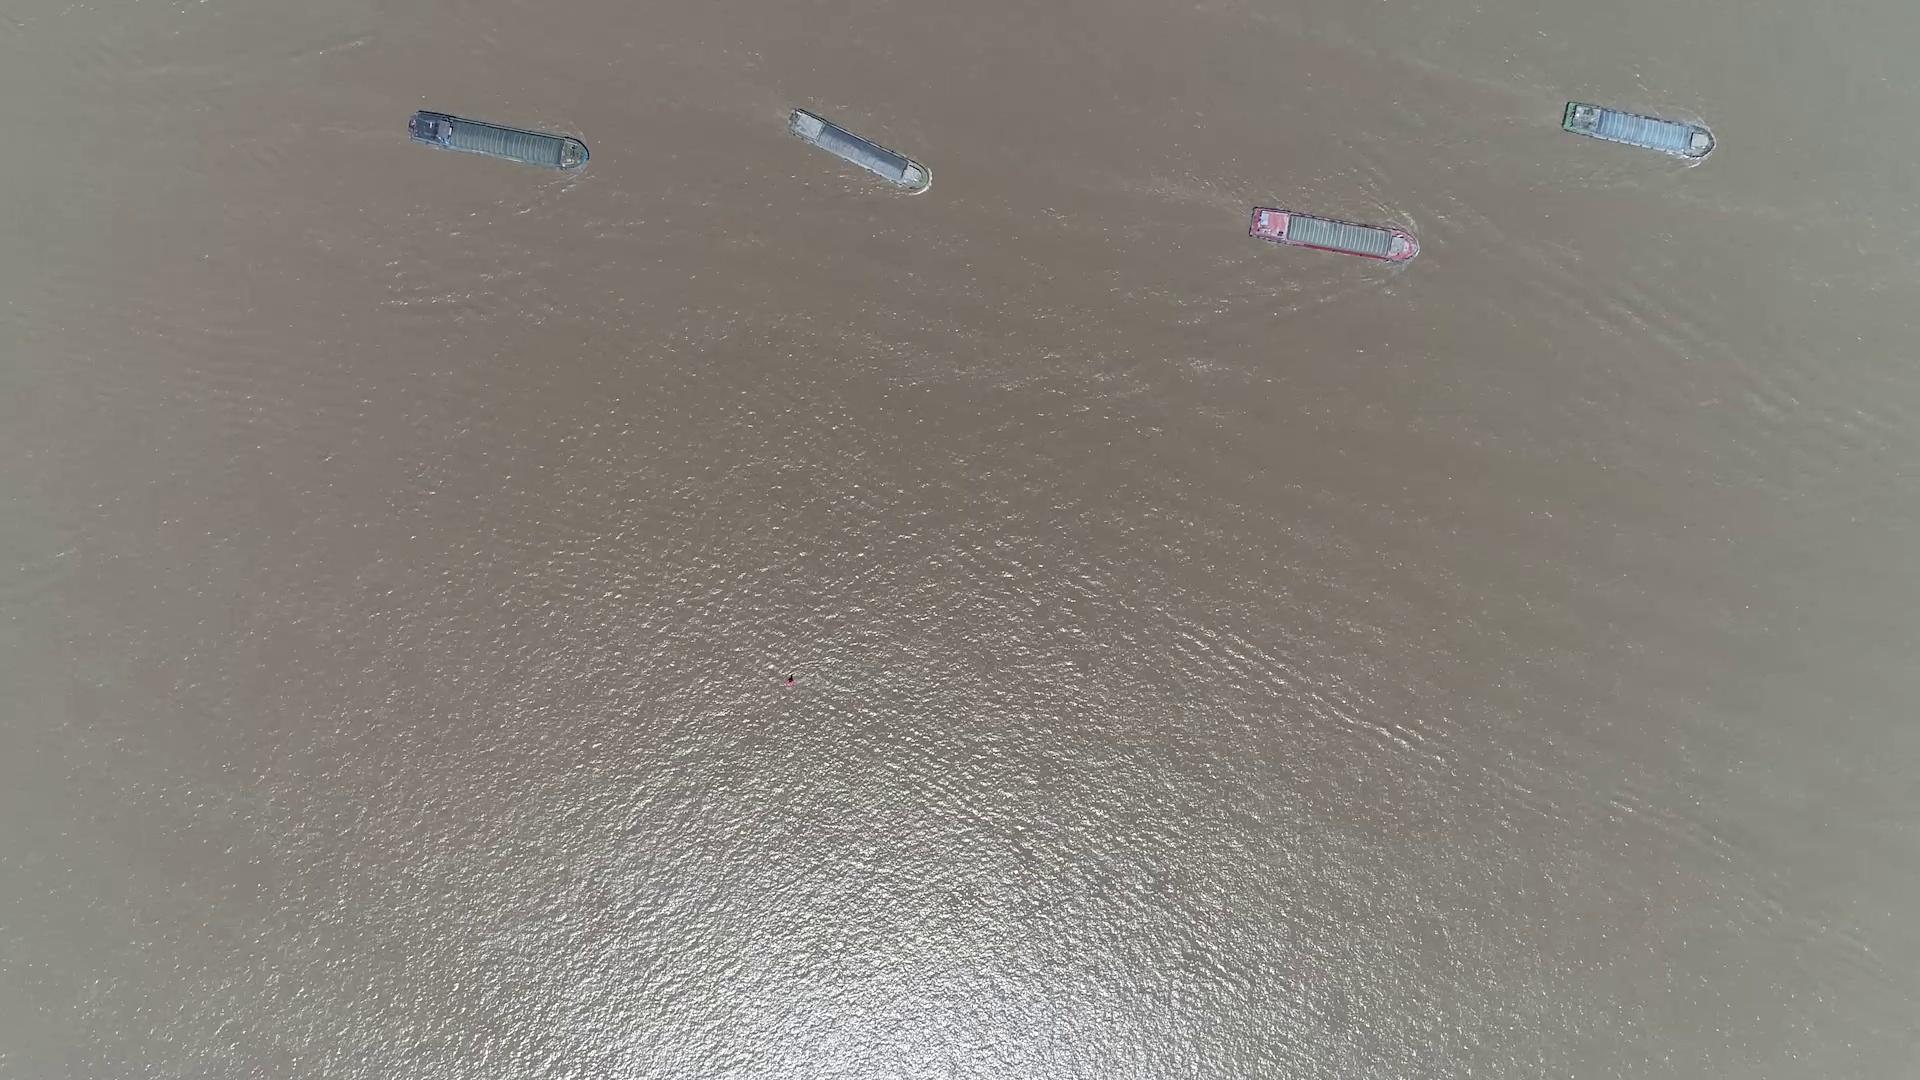ship: (789, 109, 932, 193), (409, 111, 589, 171), (1247, 208, 1419, 262), (1561, 105, 1710, 156)
